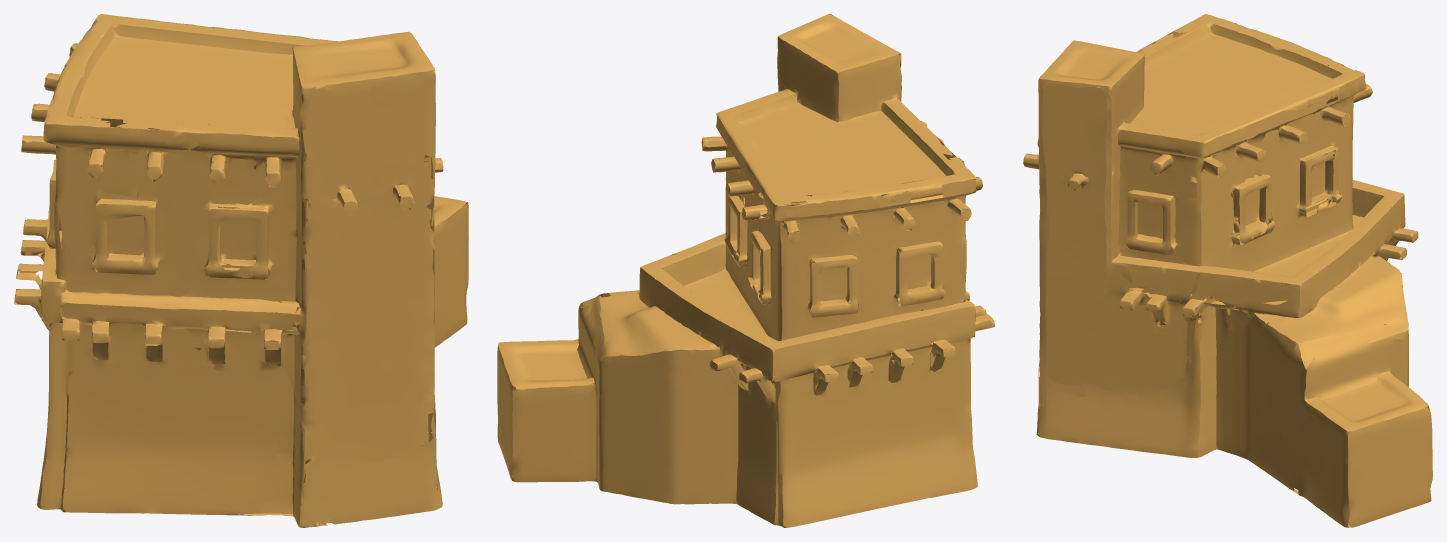
Rendered from buildings_5.fbx.
The picture shows the model from 3 angles, left to right: view 1: azimuth 30°, elevation 25°; view 2: azimuth 150°, elevation 25°; view 3: azimuth 270°, elevation 25°; orthographic projection. The views are drawn at different scales.
Visible parts, largest first — view 1: Retopo_image_Stylized_architectural_model_of_a_building_6562 (×3); view 2: Retopo_image_Stylized_architectural_model_of_a_building_6562 (×2); view 3: Retopo_image_Stylized_architectural_model_of_a_building_6562.
Part boxes in pixels (<box>): Retopo_image_Stylized_architectural_model_of_a_building_6562 (×3): <box>14,14,468,527</box>; Retopo_image_Stylized_architectural_model_of_a_building_6562 (×2): <box>497,14,994,527</box>; Retopo_image_Stylized_architectural_model_of_a_building_6562: <box>1036,14,1432,527</box>.
Bounding box in the file's own units: 3724 × 3059 × 3139.
